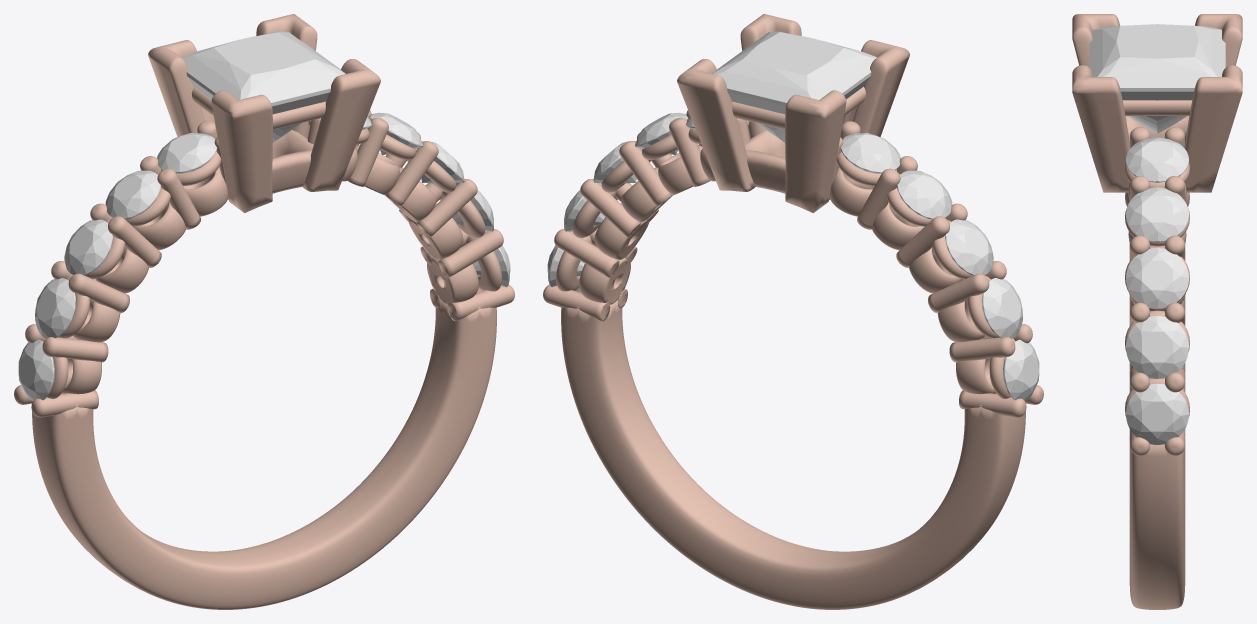
Rendered from diamond-princess-rosegold-protectededges4prongs-straightband-11stone.glb.
The picture shows the model from 3 angles, left to right: view 1: azimuth 30°, elevation 25°; view 2: azimuth 150°, elevation 25°; view 3: azimuth 270°, elevation 25°; orthographic projection.
Parts seen in each view (by area): view 1: metal, stone, side.004, side.005, side.001, side.006, side, side.008; view 2: metal, stone, side.004, side.005, side.001, side.006, side, side.008; view 3: metal, stone, side.003, side.009, side.002, side.008, side.007.
Boxes of the visible parts, x1=… form: metal: x1=14, y1=14, x2=514, y2=609; stone: x1=181, y1=31, x2=345, y2=142; side.004: x1=64, y1=219, x2=112, y2=275; side.005: x1=105, y1=170, x2=160, y2=219; side.001: x1=35, y1=278, x2=75, y2=338; side.006: x1=157, y1=133, x2=217, y2=173; side: x1=18, y1=339, x2=54, y2=400; side.008: x1=369, y1=112, x2=422, y2=155; metal: x1=543, y1=14, x2=1043, y2=609; stone: x1=712, y1=31, x2=876, y2=142; side.004: x1=945, y1=219, x2=993, y2=275; side.005: x1=897, y1=170, x2=952, y2=219; side.001: x1=982, y1=278, x2=1022, y2=338; side.006: x1=840, y1=133, x2=900, y2=173; side: x1=1003, y1=339, x2=1039, y2=400; side.008: x1=635, y1=112, x2=688, y2=155; metal: x1=1072, y1=14, x2=1242, y2=609; stone: x1=1089, y1=24, x2=1225, y2=133; side.003: x1=1126, y1=316, x2=1188, y2=378; side.009: x1=1126, y1=248, x2=1188, y2=308; side.002: x1=1126, y1=383, x2=1188, y2=444; side.008: x1=1126, y1=187, x2=1188, y2=242; side.007: x1=1126, y1=137, x2=1188, y2=182.
Size of the model in its own units: 22 by 23.86 by 6.77.
